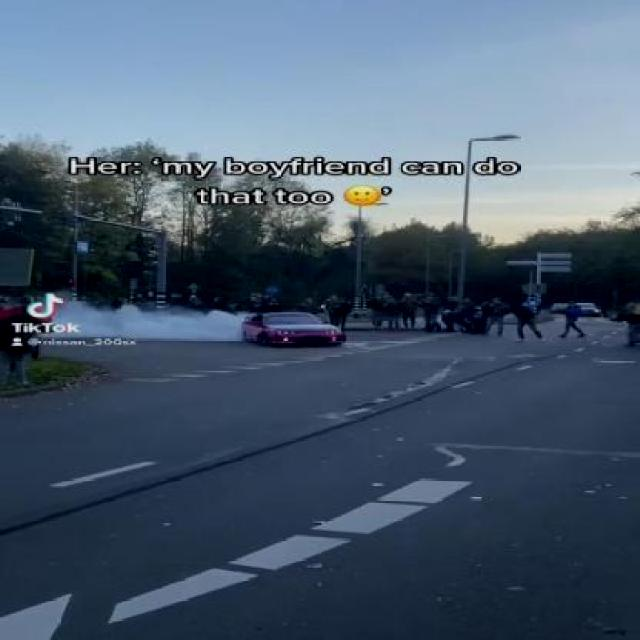car: (237, 311, 353, 351)
